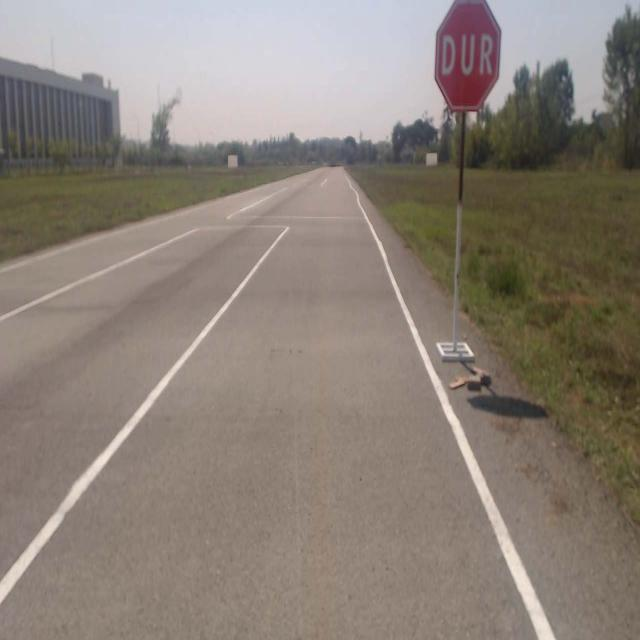dur: (436, 2, 498, 114)
